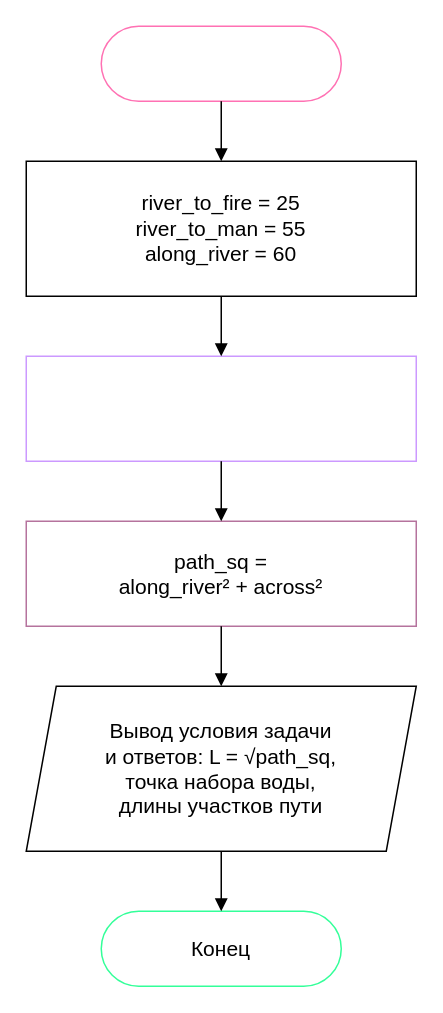
The diagram is 443 pixels wide and 1013 high, and some of its shapes have lost their labels. Here are the shapes that lost their labels. From the top down, the centre of each, then its label:
[220,63]: Начало
[220,408]: across = river_to_fire + river_to_man
